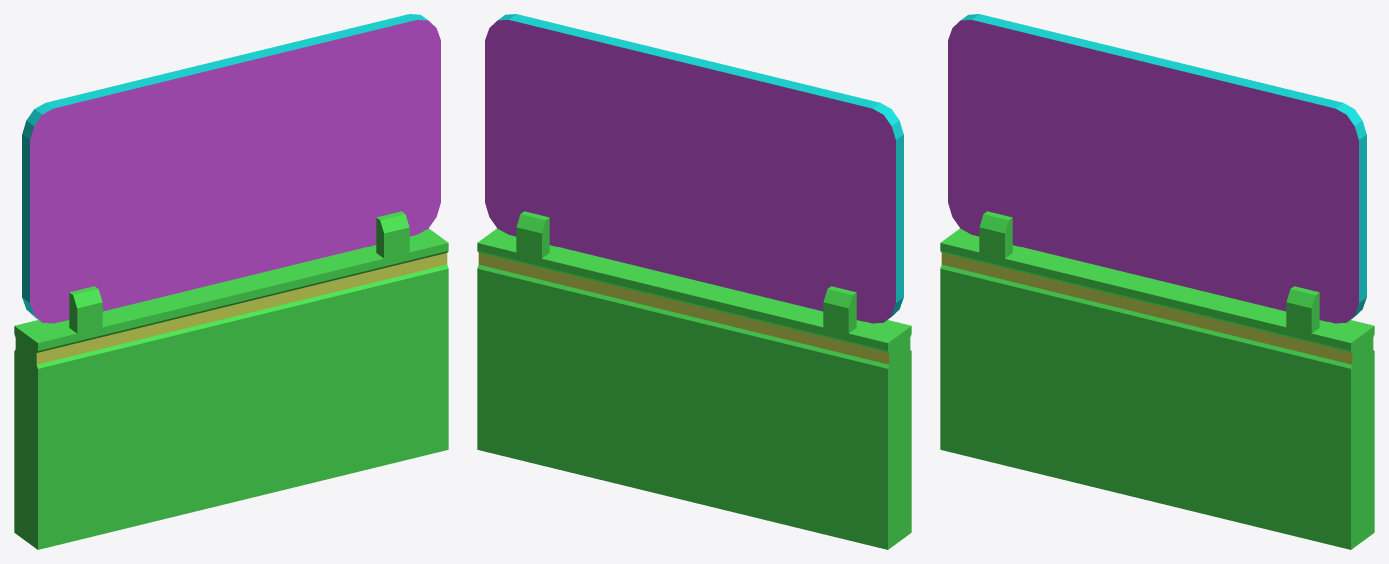
File: Partition_Wall_03_A_Straight.fbx
3 renders of one model, left to right at view 1: azimuth 30°, elevation 25°; view 2: azimuth 150°, elevation 25°; view 3: azimuth 330°, elevation 25°, orthographic.
Visible parts, largest first — view 1: Partition_Wall_03_A_Straight; view 2: Partition_Wall_03_A_Straight; view 3: Partition_Wall_03_A_Straight.
Boxes of the visible parts, bbox=[...] form: Partition_Wall_03_A_Straight: bbox=[14, 14, 448, 549]; Partition_Wall_03_A_Straight: bbox=[477, 14, 911, 549]; Partition_Wall_03_A_Straight: bbox=[940, 14, 1374, 549].
Bounding box in the file's own units: 183 × 183 × 18.29.
